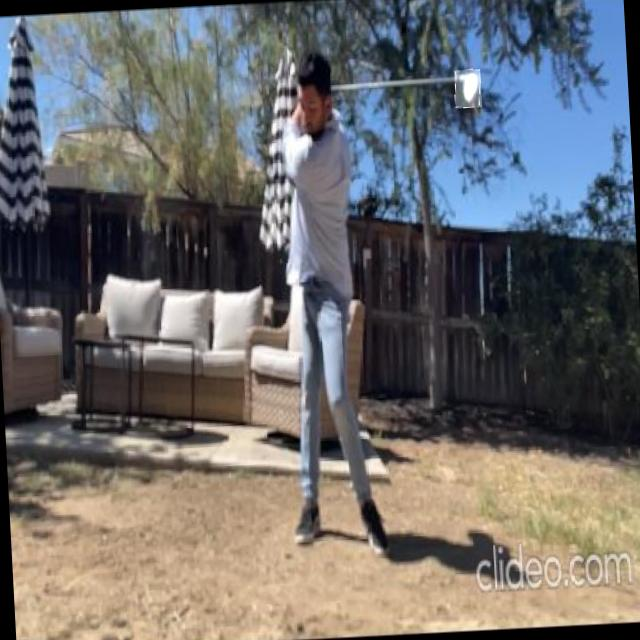club head: (454, 70, 482, 108)
